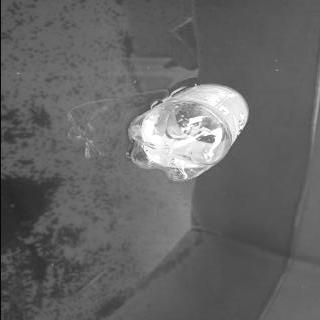bottle: (126, 82, 251, 182)
